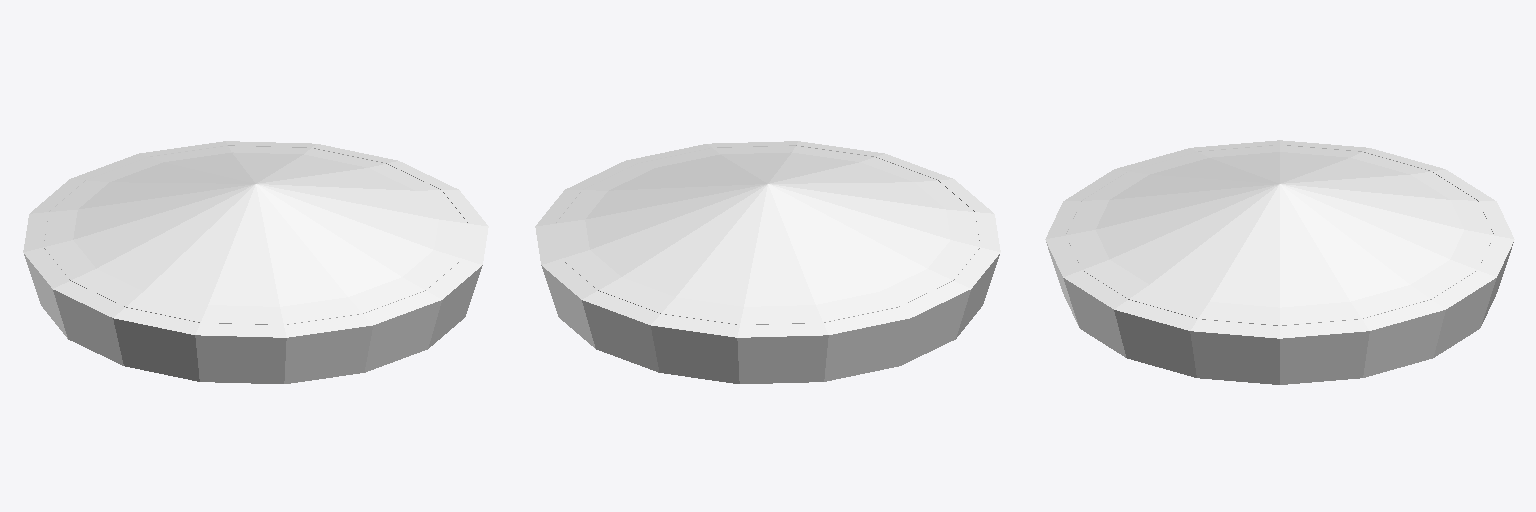
File: skybox.obj
3 views of the same model, side by side, from view 1: azimuth 30°, elevation 25°; view 2: azimuth 150°, elevation 25°; view 3: azimuth 270°, elevation 25° (orthographic).
Visible parts, largest first — view 1: map; view 2: map; view 3: map.
Boxes of the visible parts, x1=… form: map: x1=23, y1=141, x2=488, y2=383; map: x1=535, y1=141, x2=1000, y2=383; map: x1=1045, y1=140, x2=1514, y2=384.
Size of the model in its own units: 40000 by 13540 by 40000.